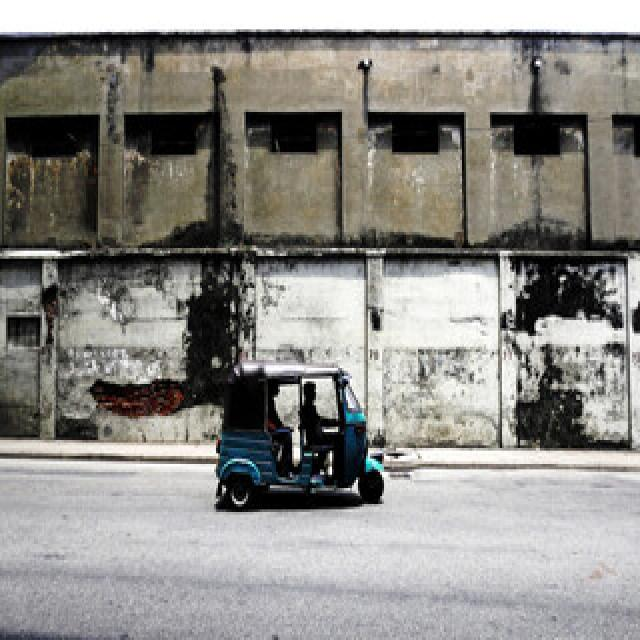three wheeler: (216, 360, 382, 509)
